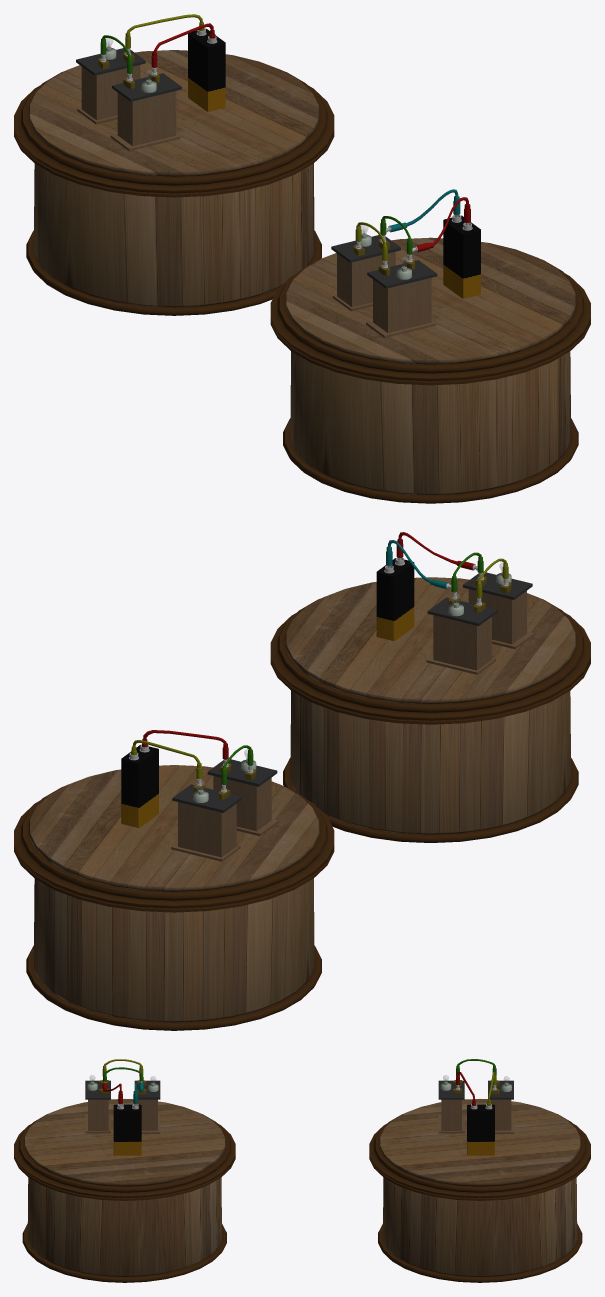
File: Question.gltf
The picture shows the model from 3 angles, top to bottom: view 1: azimuth 30°, elevation 25°; view 2: azimuth 150°, elevation 25°; view 3: azimuth 270°, elevation 25°; orthographic projection. The views are drawn at different scales.
Visible parts, largest first — view 1: Round1, Round, Disk_01, Disk_02, Box_Stand_05, Box_Stand_06, Box_Stand_01, Box_Stand_07, Battary, Battary1; view 2: Round, Round1, Disk_01, Disk_02, Box_Stand_07, Box_Stand_01, Box_Stand_05, Box_Stand_06, Battary1, Battary; view 3: Round, Round1, Disk_02, Disk_01, Battary1, Battary, Box_Stand_05, Box_Stand_06, Box_Stand_01, Box_Stand_07.
Part boxes in pixels (x1,y1,x2,y2): Round1: [283, 351, 578, 503]; Round: [26, 163, 321, 315]; Disk_01: [14, 50, 334, 197]; Disk_02: [270, 237, 590, 385]; Box_Stand_05: [110, 68, 181, 151]; Box_Stand_06: [366, 254, 437, 337]; Box_Stand_01: [76, 46, 145, 124]; Box_Stand_07: [331, 233, 400, 311]; Battary: [188, 28, 225, 111]; Battary1: [443, 215, 480, 298]; Round: [26, 878, 321, 1030]; Round1: [283, 691, 578, 842]; Disk_01: [14, 765, 334, 912]; Disk_02: [270, 577, 590, 724]; Box_Stand_07: [426, 592, 497, 674]; Box_Stand_01: [171, 779, 242, 861]; Box_Stand_05: [207, 758, 278, 836]; Box_Stand_06: [463, 572, 533, 649]; Battary1: [376, 557, 414, 640]; Battary: [121, 744, 158, 827]; Round: [378, 1177, 582, 1282]; Round1: [22, 1177, 226, 1282]; Disk_02: [14, 1099, 235, 1200]; Disk_01: [369, 1099, 590, 1200]; Battary1: [113, 1104, 141, 1155]; Battary: [467, 1104, 494, 1155]; Box_Stand_05: [438, 1080, 464, 1133]; Box_Stand_06: [85, 1079, 110, 1133]; Box_Stand_01: [488, 1080, 513, 1133]; Box_Stand_07: [134, 1080, 160, 1133].
Size of the model in its own units: 2.17 by 1.78 by 5.62.
10 materials, 5 textured.
